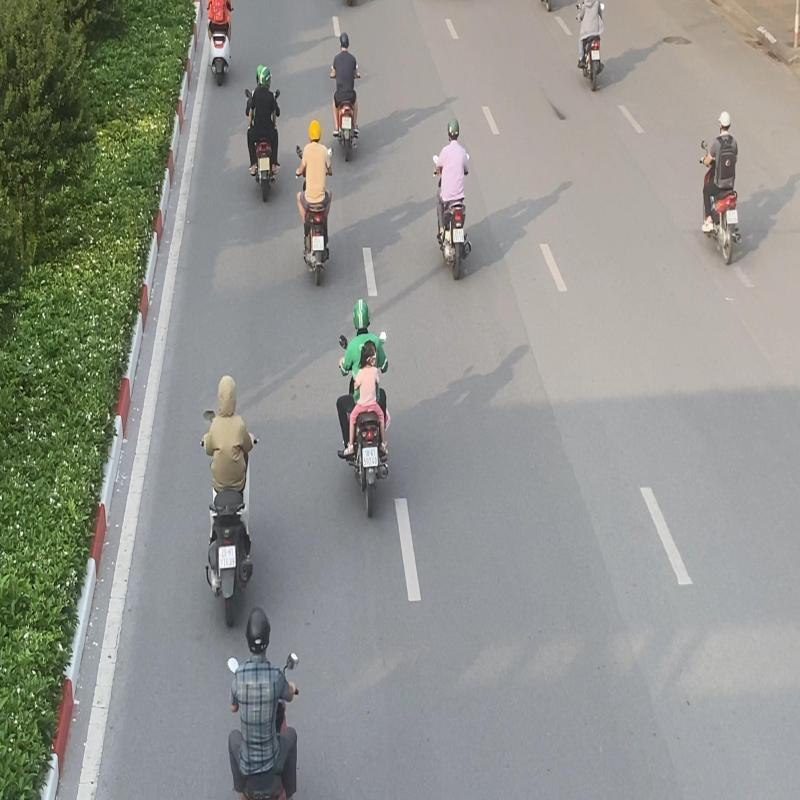helmet: (352, 297, 371, 331), (446, 116, 460, 140), (718, 110, 731, 132), (258, 66, 272, 86), (309, 119, 321, 142), (340, 32, 349, 50)
licenseplate: (362, 446, 379, 469), (726, 208, 739, 224), (312, 235, 324, 251), (259, 156, 271, 172), (453, 227, 464, 244), (342, 116, 351, 130)
motorcyclist: (334, 296, 393, 519), (698, 109, 743, 266), (432, 116, 473, 284), (294, 118, 333, 288), (244, 64, 282, 203), (330, 31, 363, 163)
nohelmet: (359, 338, 378, 368)
